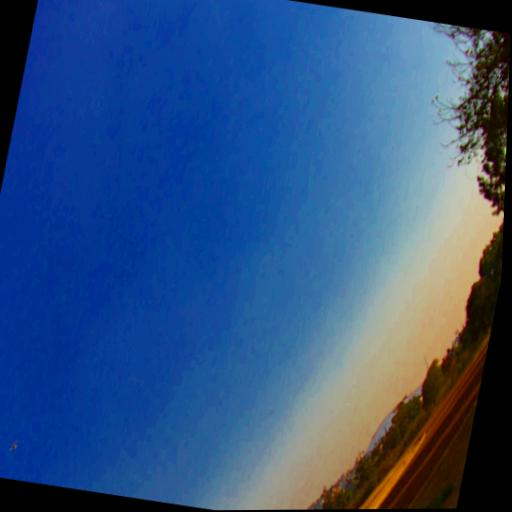drones: (6, 436, 20, 457)
